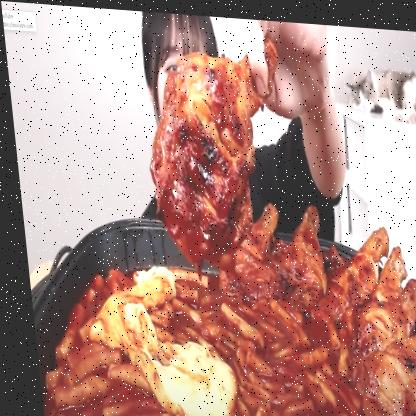streamer: (117, 7, 350, 242)
